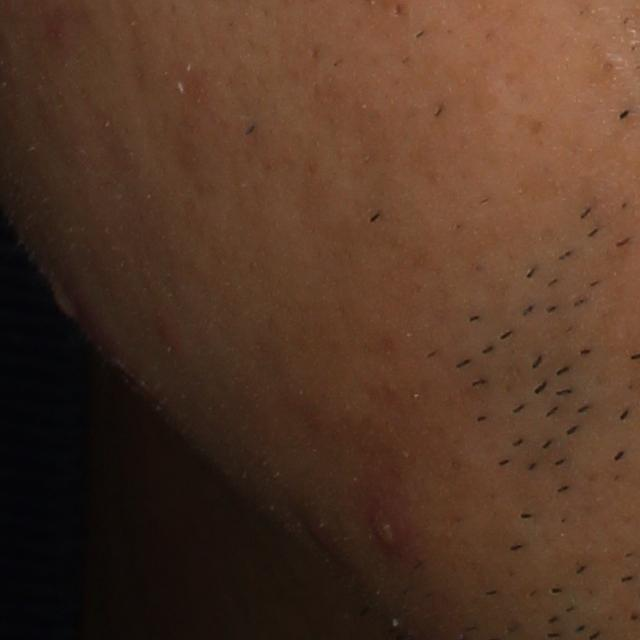pustule: (368, 503, 401, 555)
